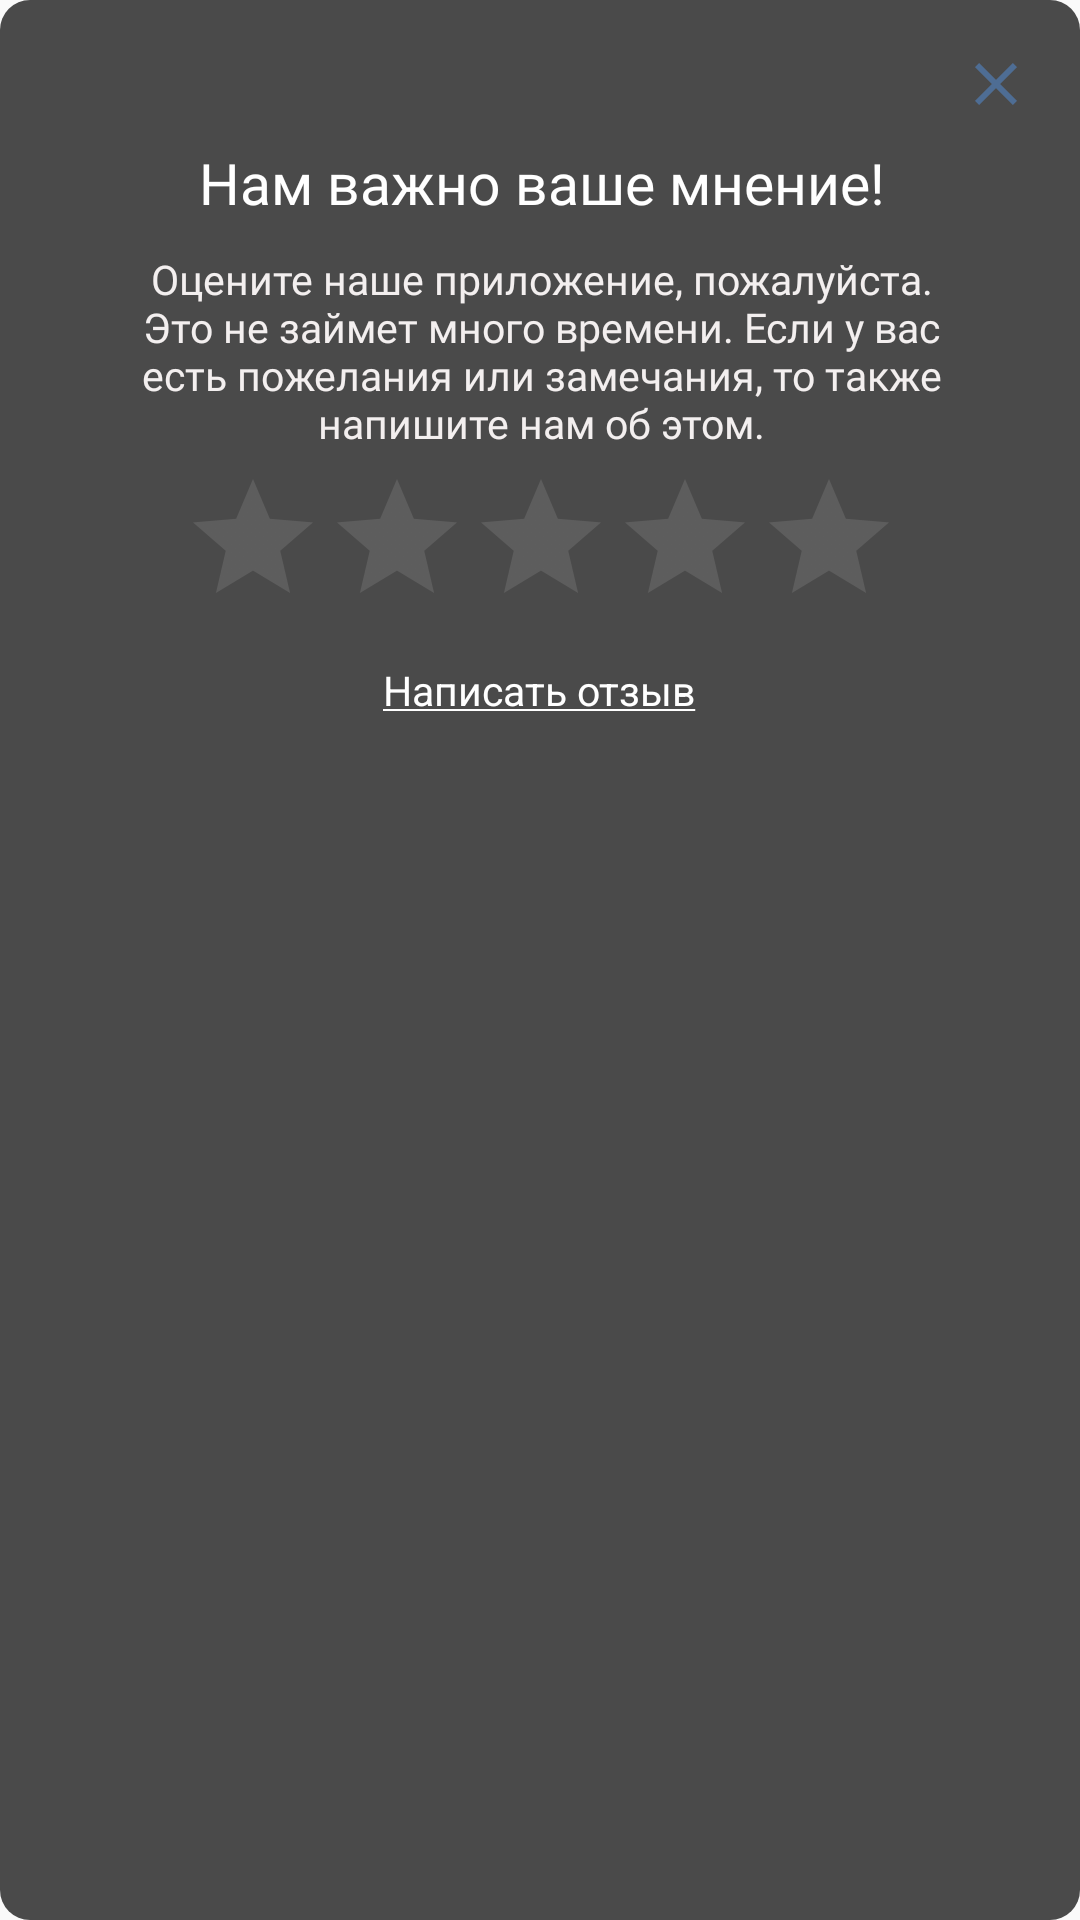

Locate icon controls on the screen. Image size 1080px×1920px, boxes as (left=x1, top=y1, right=x2, bottom=y2).
close: (left=975, top=63, right=1017, bottom=105)
